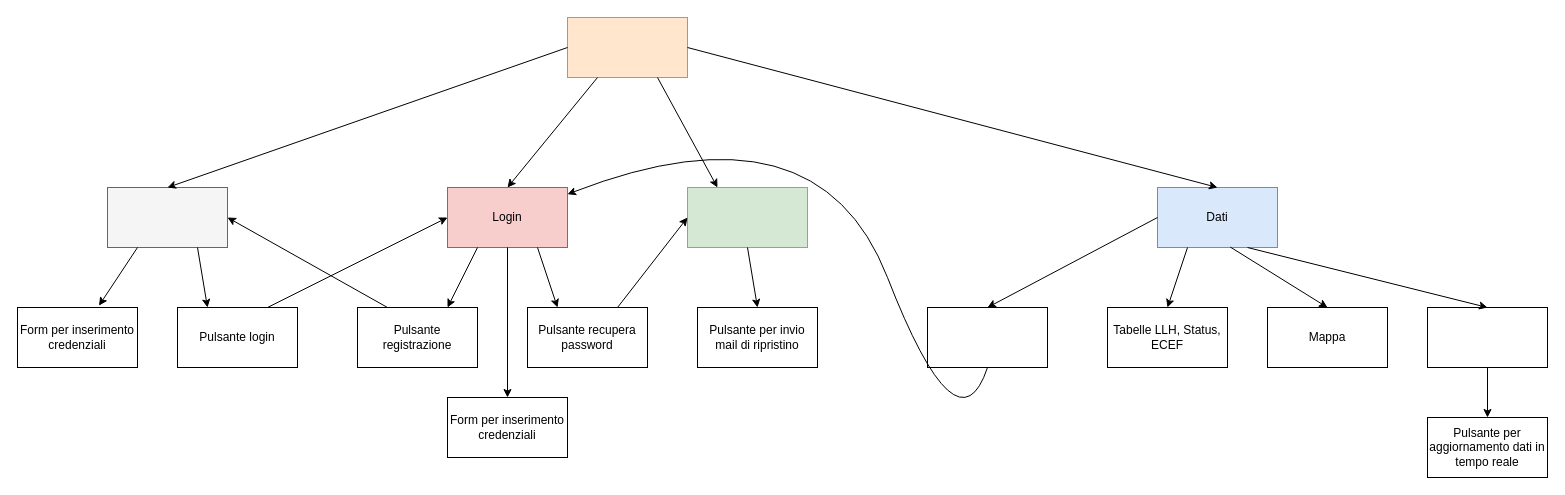
Some shapes in this 1565 by 495 pixel diagram are drawn without their labels. Here are the shapes that lost their labels. From the top down, the centre of each, then its label:
point (627, 47): Homepage
point (167, 217): Registrazione
point (747, 217): Recupera password
point (987, 337): Pulsante Logout
point (1487, 337): Sidebar
